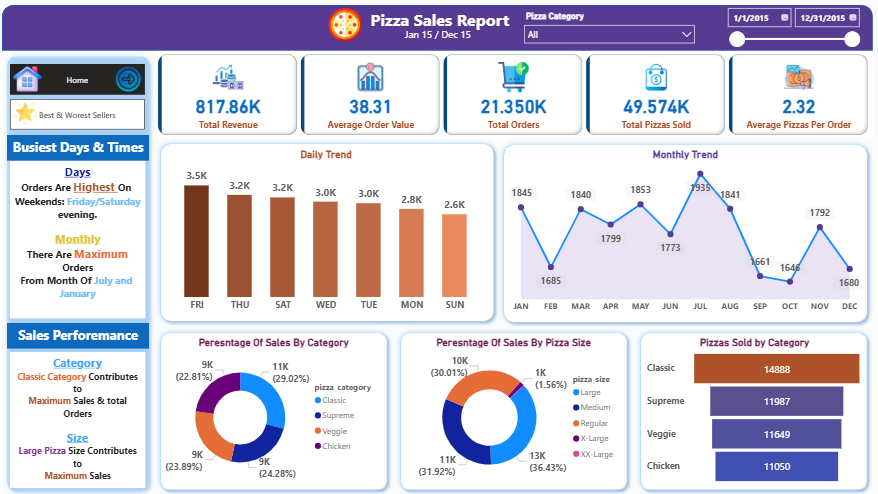

The dashboard page shown, as its layout file describes it:
{"tool":"powerbi","page":{"name":"Home","canvas":[1500,820],"ordinal":0},"visuals":[{"type":"cardVisual","fields":{"Data":["pizza_sales.Total Revenue","pizza_sales.Average Order Value","pizza_sales.Total Orders","pizza_sales.Total Pizzas Sold","pizza_sales.Average Pizzas Per Order"]},"box":[281.7,90,1178.3,143.3],"z":0},{"type":"shape","box":[31.7,15,1428.3,75],"z":1000},{"type":"textbox","box":[625,15,248.3,46.7],"z":2000},{"type":"textbox","box":[648.3,48.3,196.7,41.7],"z":3000},{"type":"image","box":[315,15,558.3,65],"z":4000},{"type":"shape","box":[281.7,233.3,565,310],"z":5000},{"type":"columnChart","title":"Daily Trend","fields":{"Y":["pizza_sales.Total Orders"],"Category":["pizza_sales.Order Day"]},"box":[296.7,250,531.7,278.3],"z":6000},{"type":"shape","box":[845,235,615,310],"z":7000},{"type":"areaChart","title":" Monthly Trend","fields":{"Y":["pizza_sales.Total Orders"],"Category":["pizza_sales.Order Month"]},"box":[858.3,250,588.3,278.3],"z":8000},{"type":"shape","box":[281.7,543.3,390,276.7],"z":9000},{"type":"shape","box":[675,543.3,390,276.7],"z":10000},{"type":"shape","box":[1070,543.3,390,276.7],"z":11000},{"type":"donutChart","title":"Peresntage Of Sales By Category","fields":{"Y":["pizza_sales.Total Orders"],"Category":["pizza_sales.pizza_category"]},"box":[295,558.3,363.3,248.3],"z":12000},{"type":"donutChart","title":"Peresntage Of Sales By Pizza Size","fields":{"Y":["pizza_sales.Total Orders"],"Category":["pizza_sales.pizza_size"]},"box":[688.3,558.3,363.3,248.3],"z":13000},{"type":"funnel","title":" Pizzas Sold by Category","fields":{"Y":["pizza_sales.Total Pizzas Sold"],"Category":["pizza_sales.pizza_category"]},"box":[1083.3,558.3,363.3,248.3],"z":14000},{"type":"shape","box":[31.7,90,250,730],"z":15000},{"type":"textbox","box":[40,228.3,233.3,41.7],"z":16000},{"type":"textbox","box":[45,270,221.7,258.3],"z":17000},{"type":"textbox","box":[45,583.3,221.7,223.3],"z":18000},{"type":"textbox","box":[40,536.7,233.3,41.7],"z":19000},{"type":"slicer","fields":{"Values":["pizza_sales.pizza_category"]},"box":[876.7,20,300,70],"z":20000},{"type":"slicer","fields":{"Values":["pizza_sales.order_date"]},"box":[1208.3,10,238.3,80],"z":21000},{"type":"pageNavigator","box":[45,111.7,221.7,50],"z":21001},{"type":"pageNavigator","box":[45,168.3,221.7,50],"z":21002},{"type":"image","box":[45,101.7,56.7,68.3],"z":21003},{"type":"image","box":[210,101.7,56.7,68.3],"z":21004},{"type":"image","box":[45,165,50,56.7],"z":21005}]}

Visuals, with their boxes in screenshot pixels (x1, y1, x2, y2), scaled from the page's 1500x820 canvas onto the 878x494 screenshot:
cardVisual - pizza_sales.Total Revenue x pizza_sales.Average Order Value: 165/54/855/141
shape: 19/9/855/54
textbox: 366/9/511/37
textbox: 379/29/495/54
image: 184/9/511/48
shape: 165/141/496/327
"Daily Trend" columnChart: 174/151/485/318
shape: 495/142/855/328
" Monthly Trend" areaChart: 502/151/847/318
shape: 165/327/393/493
shape: 395/327/623/493
shape: 626/327/855/493
"Peresntage Of Sales By Category" donutChart: 173/336/385/486
"Peresntage Of Sales By Pizza Size" donutChart: 403/336/616/486
" Pizzas Sold by Category" funnel: 634/336/847/486
shape: 19/54/165/493
textbox: 23/138/160/163
textbox: 26/163/156/318
textbox: 26/351/156/486
textbox: 23/323/160/348
slicer - pizza_sales.pizza_category: 513/12/689/54
slicer - pizza_sales.order_date: 707/6/847/54
pageNavigator: 26/67/156/97
pageNavigator: 26/101/156/132
image: 26/61/60/102
image: 123/61/156/102
image: 26/99/56/134
